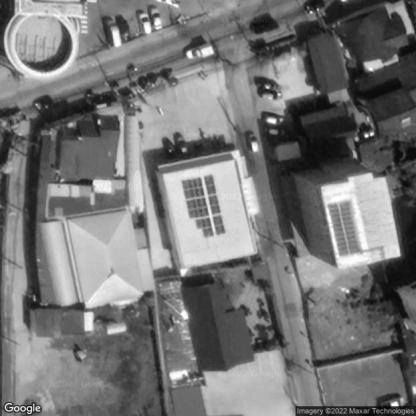solar-pv-panel: (180, 174, 225, 237), (326, 200, 364, 256)
